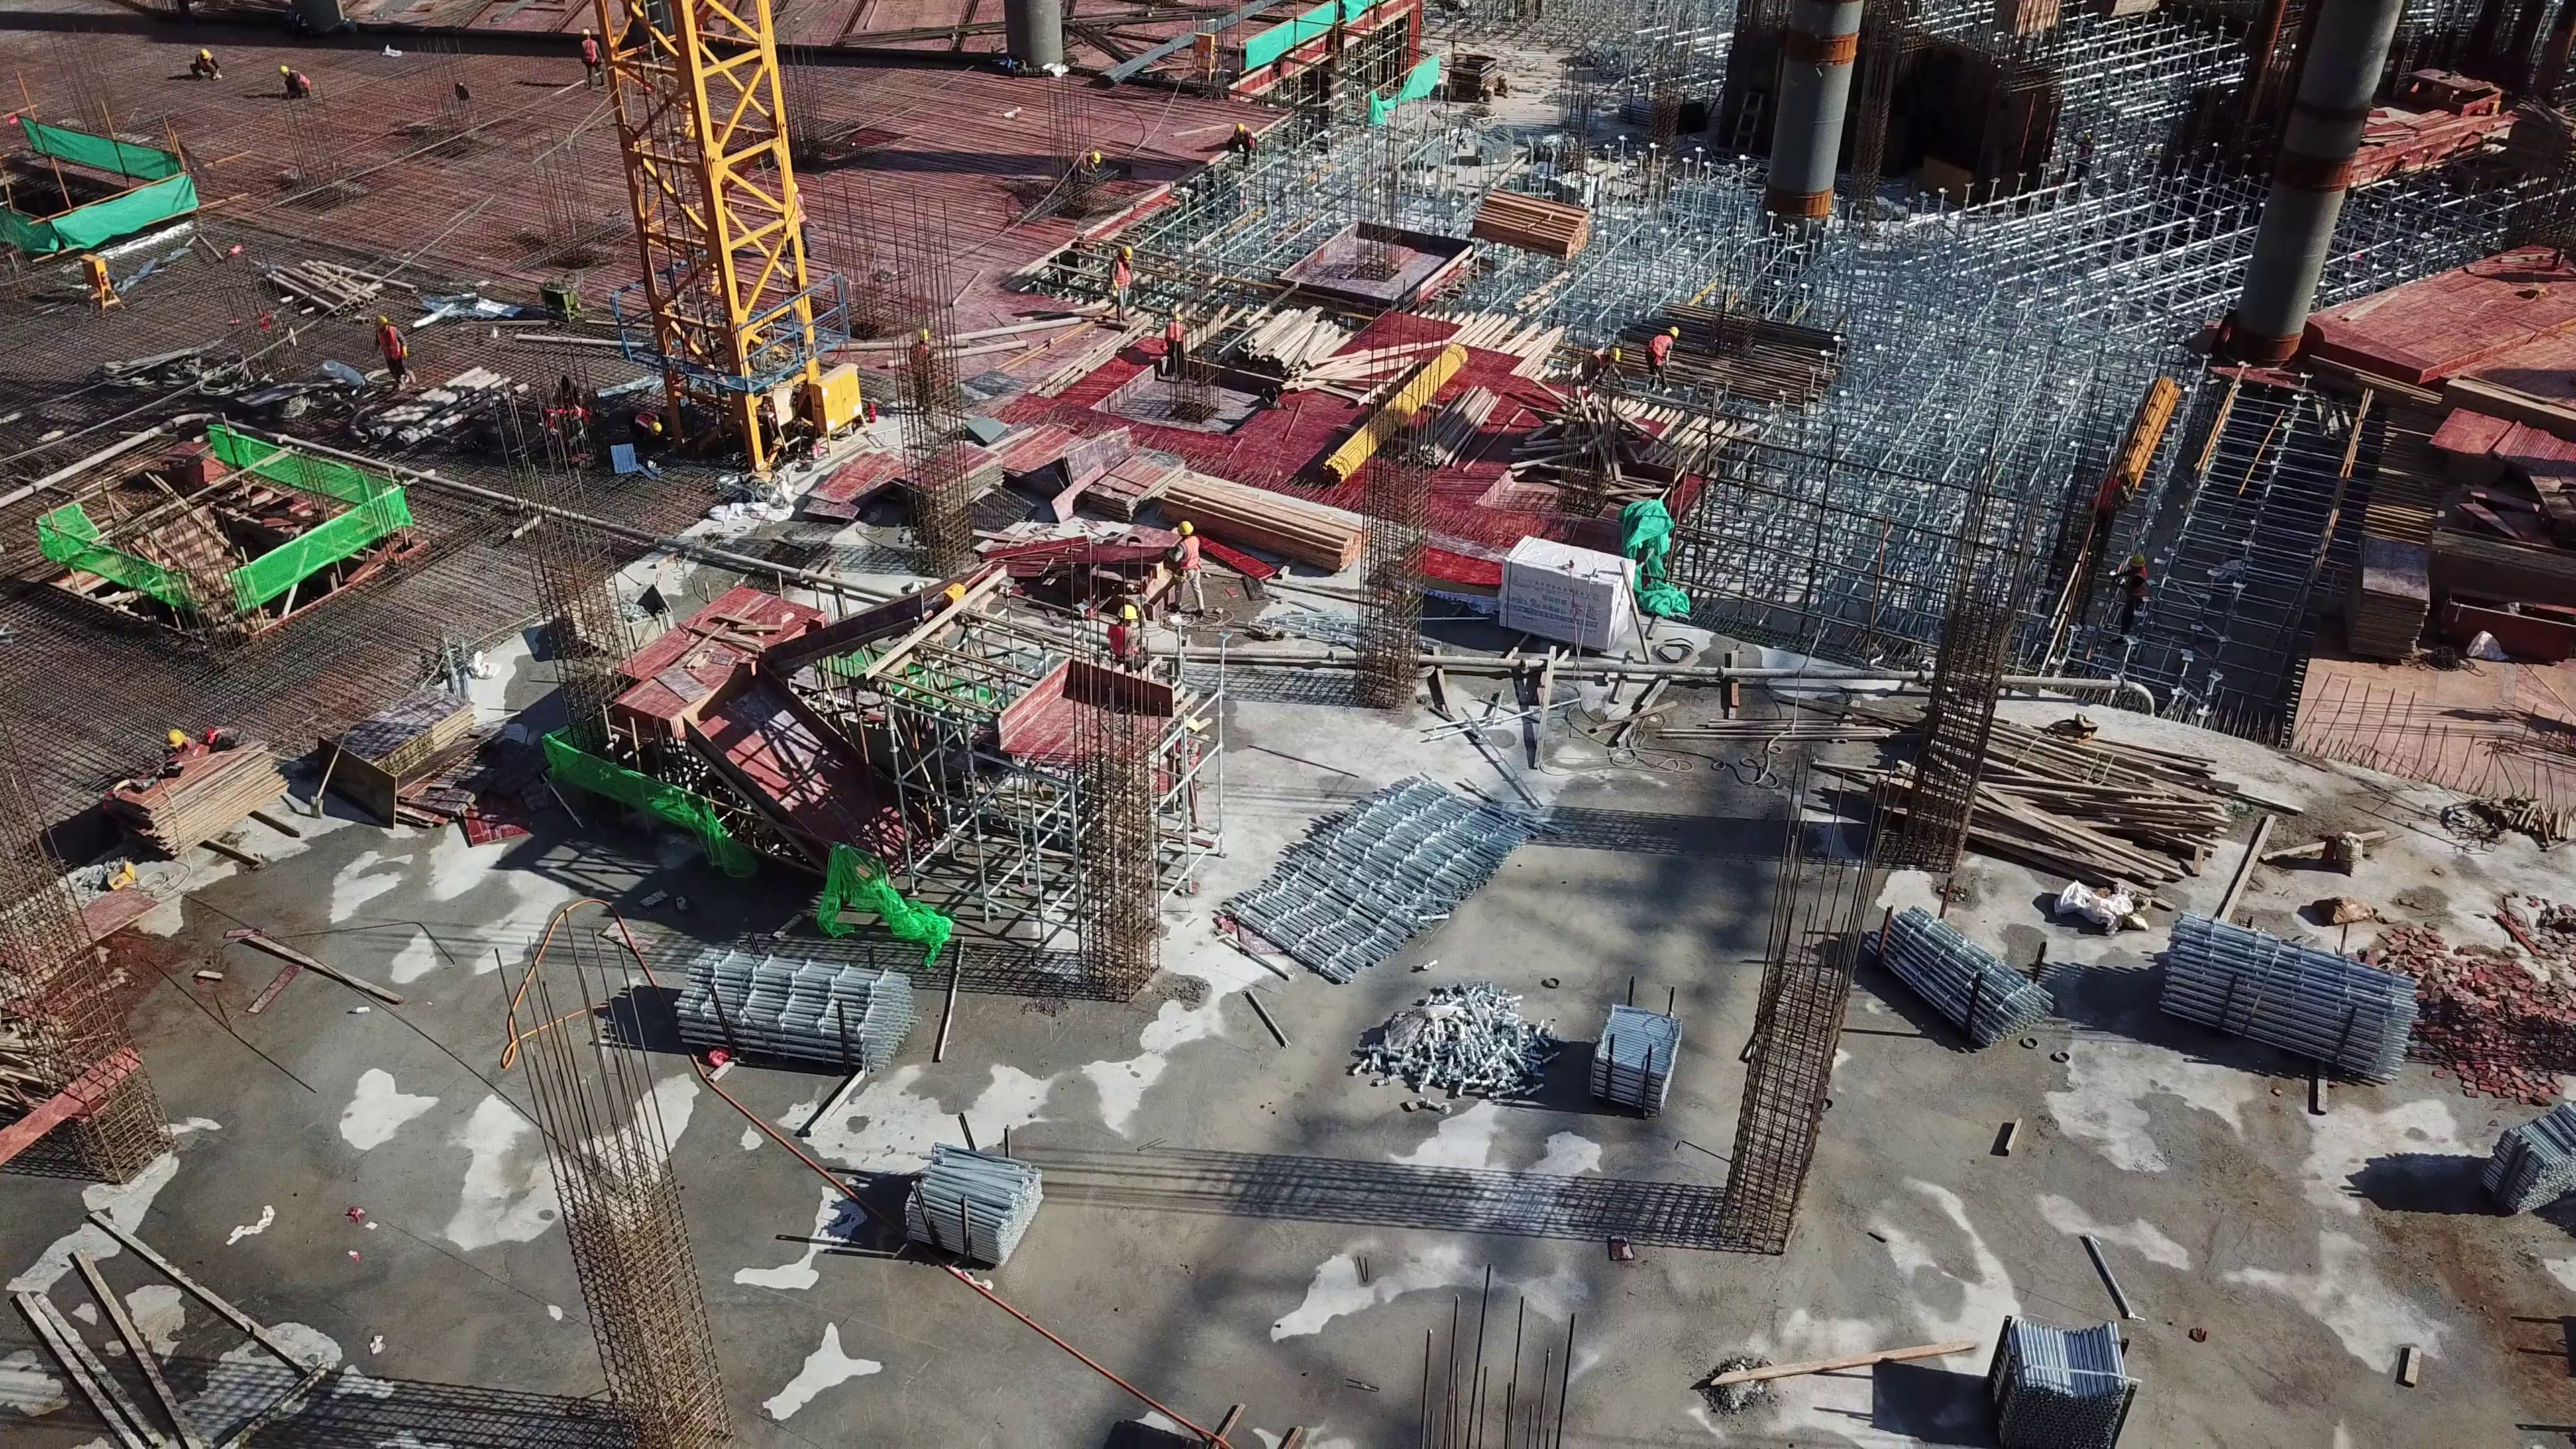board: (1845, 695, 2227, 890), (113, 713, 294, 863), (318, 679, 478, 823), (2339, 529, 2438, 669)
scaffold: (1695, 290, 2123, 658), (1221, 775, 1529, 980), (1341, 980, 1688, 1122), (2146, 925, 2429, 1097), (676, 947, 927, 1077), (1854, 911, 2042, 1065), (901, 1141, 1033, 1261)
wood: (1146, 467, 1368, 570), (1210, 299, 1422, 400)
